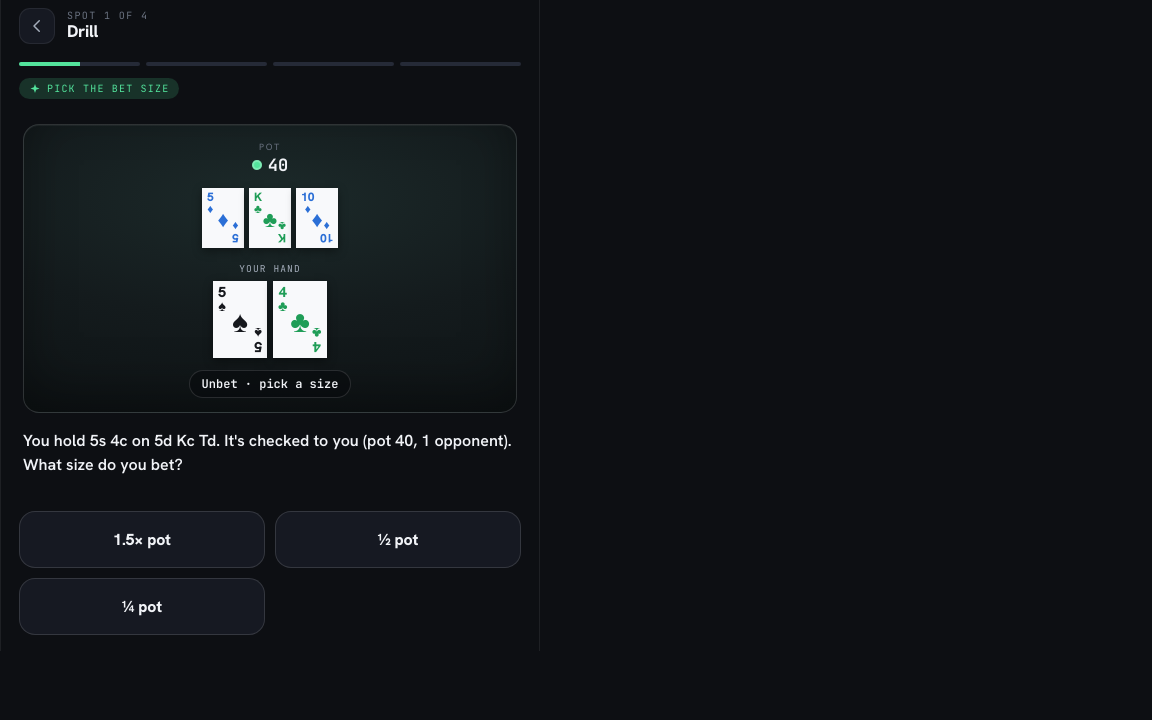
Test: DrillSession — the loop › grades a pick with the engine and renders its verdict + explanation
Click the button "½ pot".
click(398, 539)  # box [275,510,521,568]
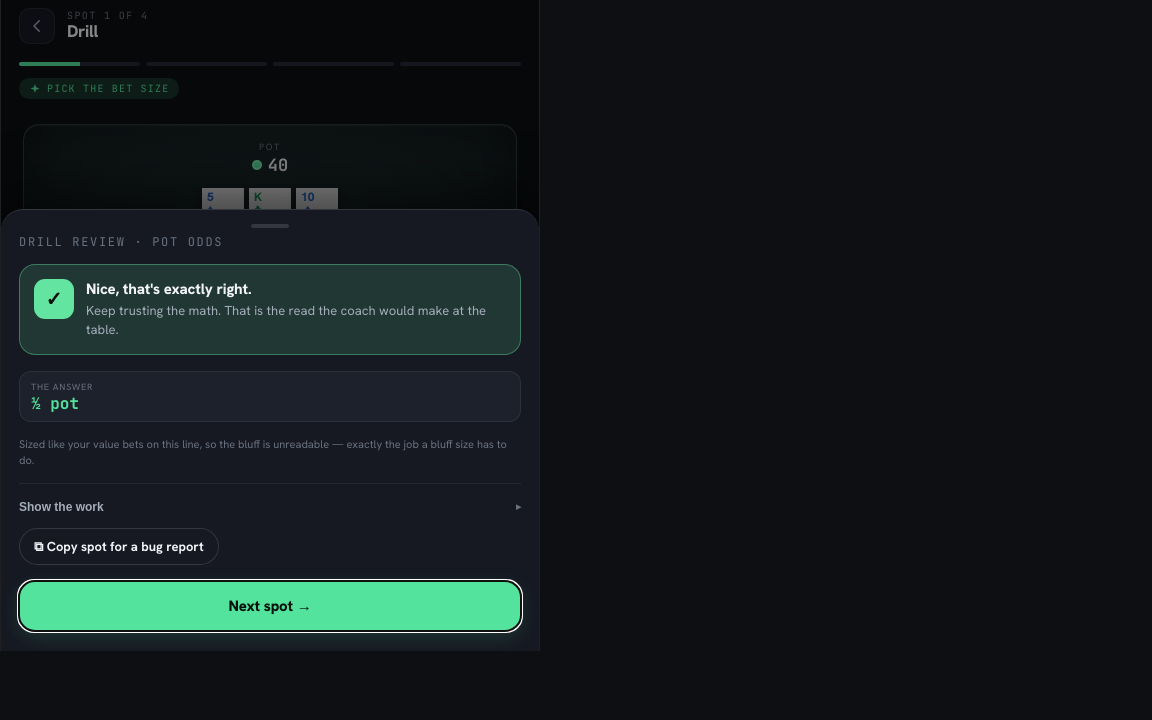
Result: the dialog with test id "result-sheet" is shown at [1,209,539,650]
Result: the text with test id "result-why" shows "Sized like your value bets on this line, so the bluff is unreadable — exactly the job a bluff size has to do." at [19,436,507,467]
